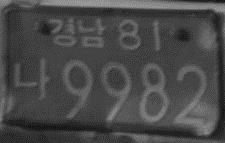1: (147, 17, 164, 52)
2: (172, 61, 209, 129)
8: (137, 60, 169, 124), (115, 17, 142, 52)
9: (96, 58, 134, 124), (60, 58, 97, 123)
경남_O: (44, 16, 106, 49)
나: (11, 54, 51, 100)
